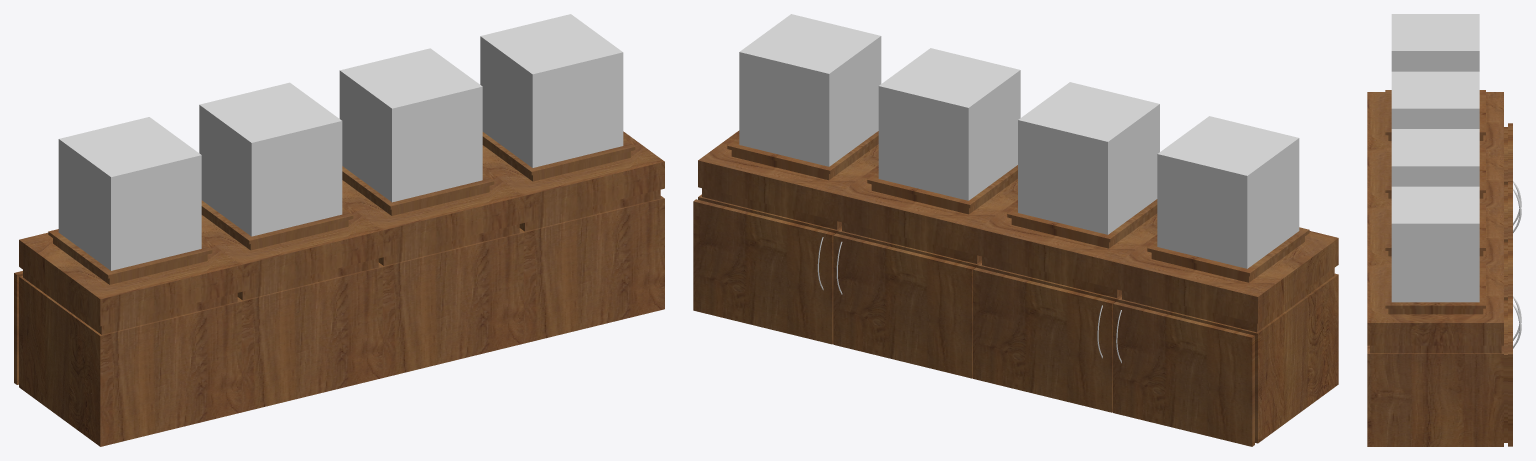
The model's file is gabineteGrande002.fbx.
The picture shows the model from 3 angles, left to right: view 1: azimuth 30°, elevation 25°; view 2: azimuth 150°, elevation 25°; view 3: azimuth 270°, elevation 25°; orthographic projection. The views are drawn at different scales.
Parts seen in each view (by area): view 1: Gabinete, Cristal; view 2: Gabinete, Cristal; view 3: Gabinete, Cristal.
Part boxes in pixels (x1=…): Gabinete: x1=14, y1=131, x2=664, y2=446; Cristal: x1=58, y1=14, x2=623, y2=270; Gabinete: x1=693, y1=130, x2=1338, y2=446; Cristal: x1=739, y1=14, x2=1299, y2=268; Gabinete: x1=1367, y1=90, x2=1512, y2=446; Cristal: x1=1391, y1=14, x2=1479, y2=302.
Bounding box in the file's own units: 1585 × 679 × 447.
